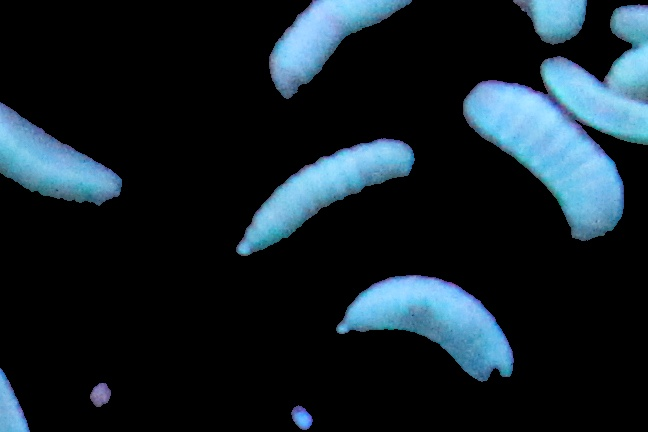larvae: (461, 78, 624, 241), (340, 272, 517, 388), (240, 141, 414, 256), (270, 1, 420, 101), (1, 102, 123, 212), (542, 52, 648, 144)
